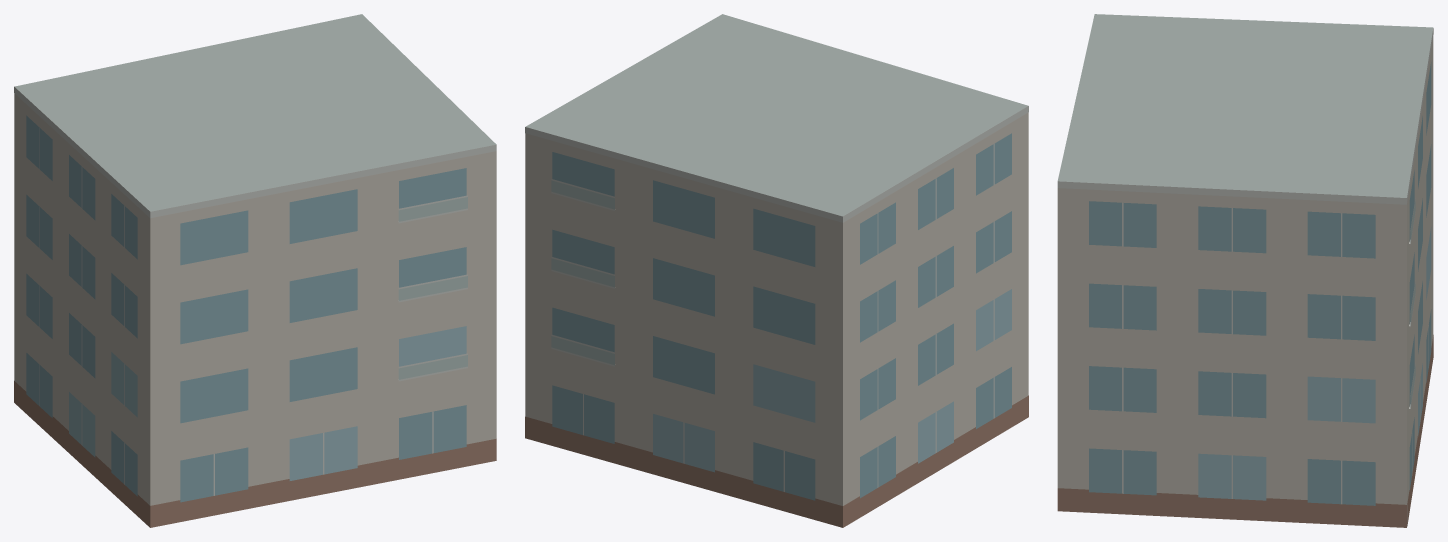
Rendered from survey-upis-32824027.glb.
3 views of the same model, side by side, from view 1: azimuth 30°, elevation 25°; view 2: azimuth 150°, elevation 25°; view 3: azimuth 270°, elevation 25° (orthographic). The views are drawn at different scales.
Parts seen in each view (by area): view 1: survey-upis-32824027.tmp; view 2: survey-upis-32824027.tmp; view 3: survey-upis-32824027.tmp.
Boxes of the visible parts, <box> form: survey-upis-32824027.tmp: <box>14,14,496,527</box>; survey-upis-32824027.tmp: <box>525,14,1028,527</box>; survey-upis-32824027.tmp: <box>1057,14,1433,527</box>.
Bounding box in the file's own units: 14.38 × 12 × 12.41.
